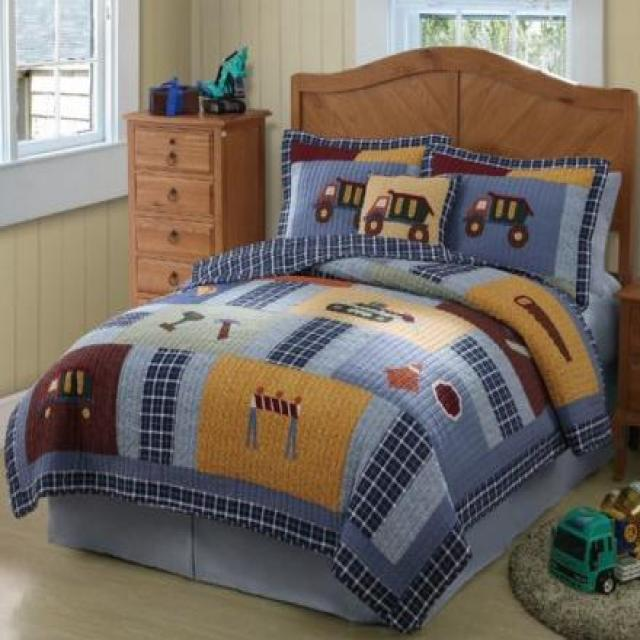bed: (43, 45, 640, 631)
